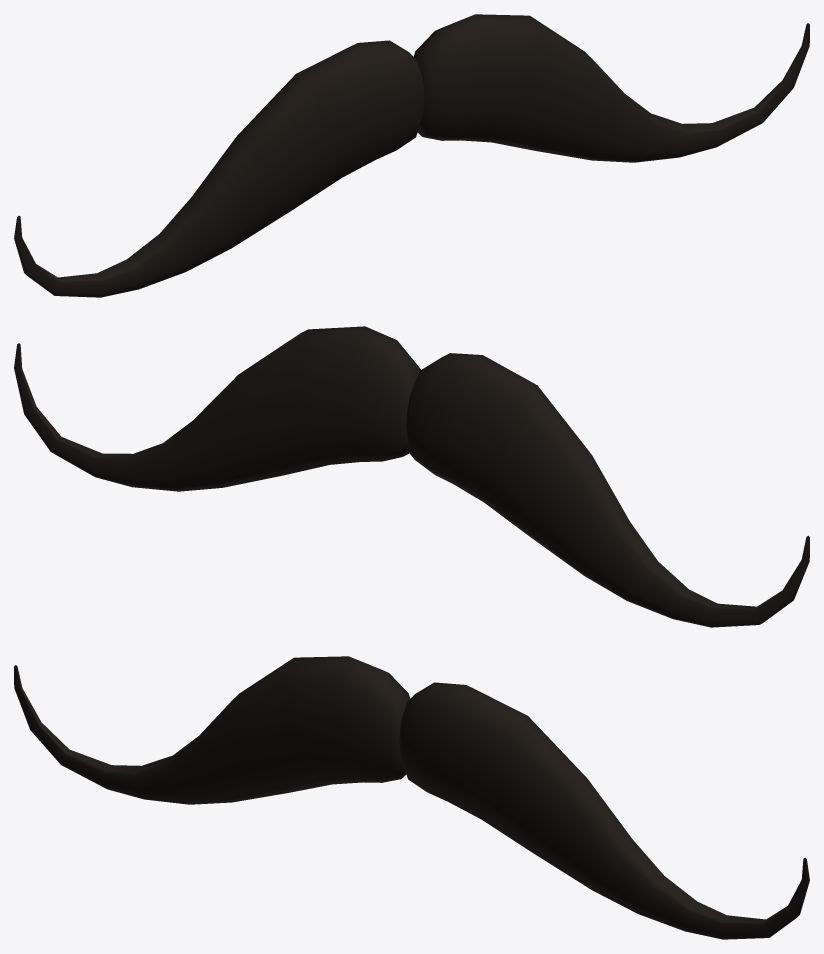
The model's file is Beard_03_01.fbx.
The picture shows the model from 3 angles, top to bottom: view 1: azimuth 30°, elevation 25°; view 2: azimuth 150°, elevation 25°; view 3: azimuth 330°, elevation 25°; orthographic projection.
Parts seen in each view (by area): view 1: Beard_03_01; view 2: Beard_03_01; view 3: Beard_03_01.
Boxes of the visible parts, box(x1,y1,x2,y2) form: Beard_03_01: box(14, 14, 809, 297); Beard_03_01: box(14, 326, 809, 627); Beard_03_01: box(14, 656, 809, 939).
Size of the model in its own units: 21.7 by 5.23 by 1.69.
